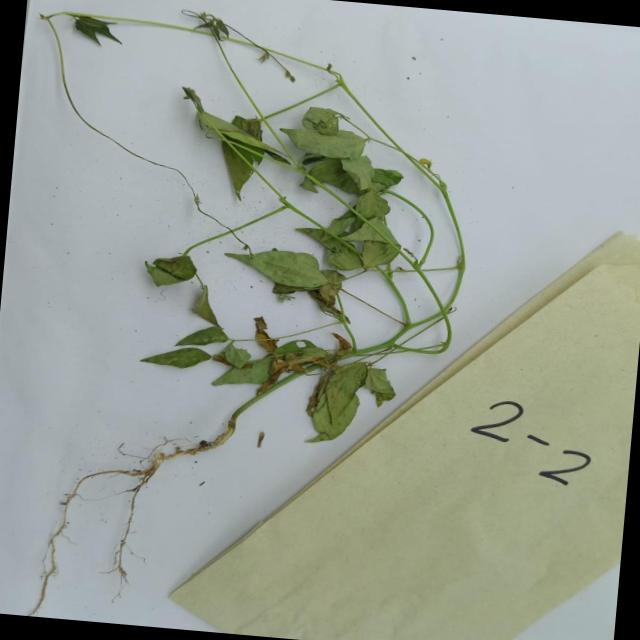Root: (100, 427, 200, 598), (30, 461, 114, 602)
Stem: (133, 14, 349, 72), (420, 170, 474, 326), (343, 74, 421, 147), (27, 7, 80, 106), (364, 309, 456, 366), (208, 49, 282, 117), (324, 283, 374, 358), (248, 167, 316, 220), (200, 198, 298, 234), (207, 380, 301, 415), (392, 137, 450, 188), (178, 225, 204, 253)
healty_leaves: (190, 104, 294, 165), (339, 191, 418, 269), (293, 152, 408, 200), (218, 242, 328, 290), (299, 202, 367, 272), (275, 125, 378, 163), (178, 280, 231, 351), (207, 144, 270, 202), (136, 250, 204, 288), (179, 6, 244, 40), (140, 344, 210, 373), (66, 12, 124, 46), (301, 105, 346, 138)
rooten_leaf: (308, 360, 401, 446), (250, 313, 284, 356), (264, 359, 316, 386)
